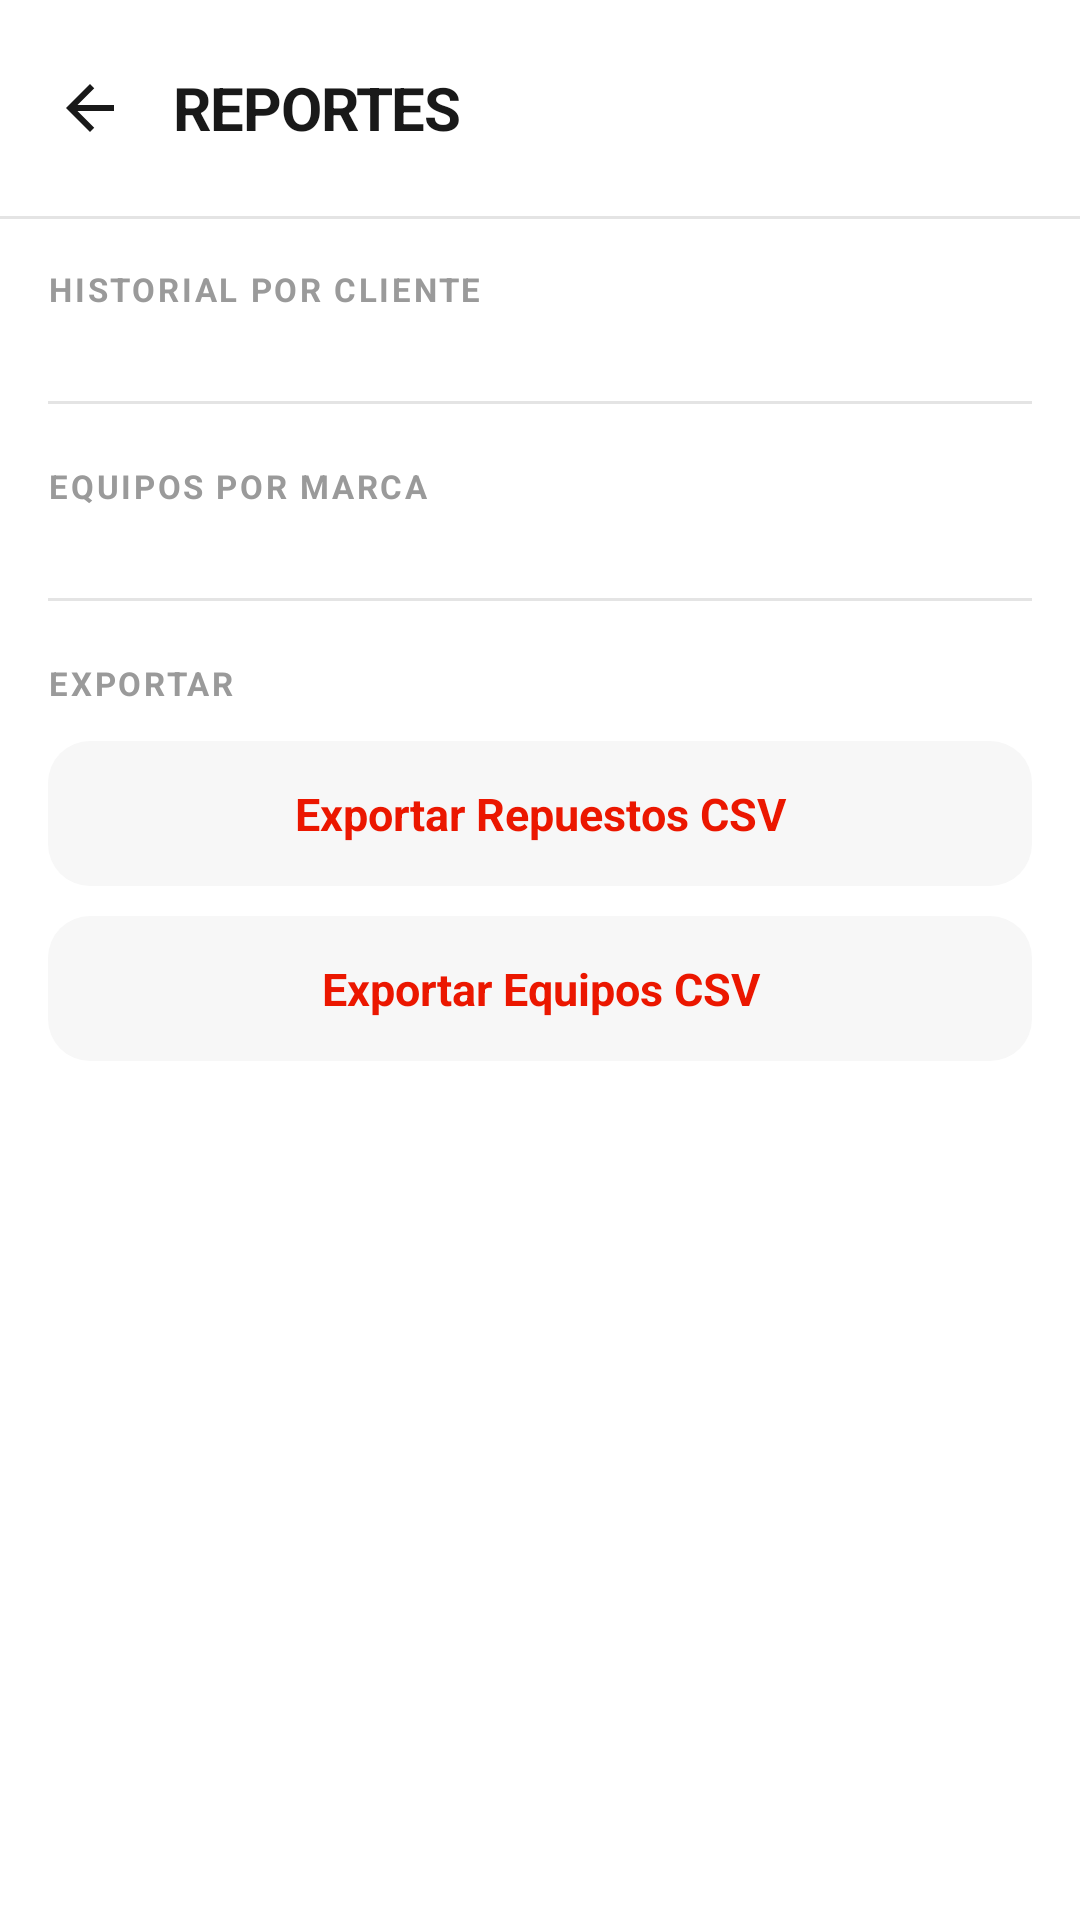

Locate icon controls on the screen. Image size 1080px×1920px, boxes as (x1, y1, x2, y2).
Atrás: (66, 84, 114, 132)
